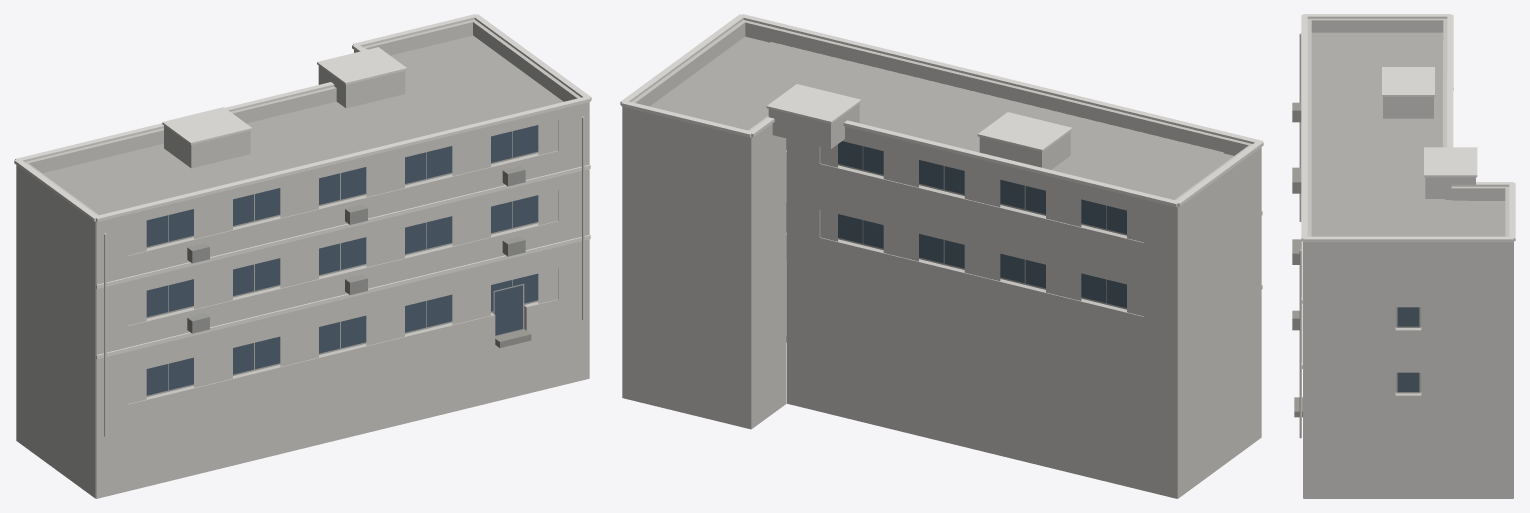
3 views of the same model, side by side, from view 1: azimuth 30°, elevation 25°; view 2: azimuth 150°, elevation 25°; view 3: azimuth 270°, elevation 25° (orthographic). The views are drawn at different scales.
Visible parts, largest first — view 1: osm759074770__white-concrete-wall, osm759074770__roof, osm759074770__glass, osm759074770__trim, osm759074770__ac, osm759074770__frame, osm759074770__door-glass, osm759074770__column; view 2: osm759074770__white-concrete-wall, osm759074770__roof, osm759074770__trim, osm759074770__glass, osm759074770__frame; view 3: osm759074770__white-concrete-wall, osm759074770__roof, osm759074770__trim, osm759074770__column, osm759074770__glass, osm759074770__ac.
Part boxes in pixels (left/top/right/bottom): osm759074770__white-concrete-wall: left=16, top=19, right=589, bottom=498; osm759074770__roof: left=42, top=35, right=563, bottom=214; osm759074770__glass: left=146, top=125, right=538, bottom=395; osm759074770__trim: left=14, top=14, right=591, bottom=359; osm759074770__ac: left=187, top=166, right=525, bottom=333; osm759074770__frame: left=146, top=131, right=538, bottom=396; osm759074770__door-glass: left=493, top=283, right=523, bottom=335; osm759074770__column: left=104, top=116, right=584, bottom=436; osm759074770__white-concrete-wall: left=622, top=20, right=1261, bottom=498; osm759074770__roof: left=650, top=36, right=1233, bottom=199; osm759074770__trim: left=620, top=14, right=1263, bottom=289; osm759074770__glass: left=786, top=139, right=1126, bottom=307; osm759074770__frame: left=838, top=146, right=1126, bottom=309; osm759074770__white-concrete-wall: left=1303, top=18, right=1513, bottom=498; osm759074770__roof: left=1311, top=32, right=1505, bottom=236; osm759074770__trim: left=1301, top=14, right=1515, bottom=368; osm759074770__column: left=1299, top=33, right=1301, bottom=438; osm759074770__glass: left=1397, top=307, right=1419, bottom=391; osm759074770__ac: left=1292, top=102, right=1301, bottom=330.
Size of the model in its own units: 25.23 by 14.12 by 10.58.
